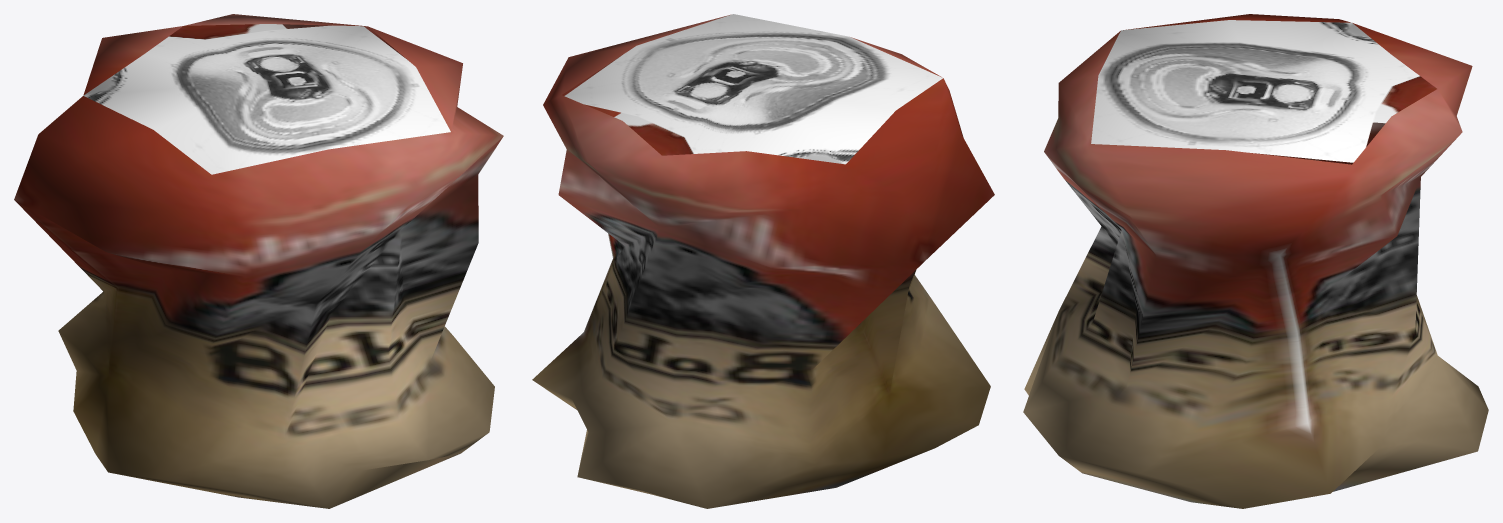
Rendered from BeerDestroyed.fbx.
The picture shows the model from 3 angles, left to right: view 1: azimuth 30°, elevation 25°; view 2: azimuth 150°, elevation 25°; view 3: azimuth 270°, elevation 25°; orthographic projection. The views are drawn at different scales.
Parts seen in each view (by area): view 1: Cylinder.040; view 2: Cylinder.040; view 3: Cylinder.040.
Part boxes in pixels (x1,y1,x2,y2): Cylinder.040: (14, 14, 503, 508); Cylinder.040: (532, 14, 994, 508); Cylinder.040: (1023, 14, 1488, 508).
Size of the model in its own units: 56.73 by 46.91 by 55.15.
1 material, 1 textured.
